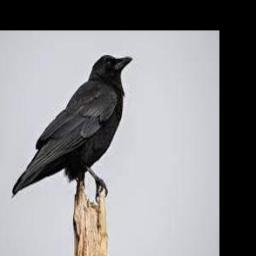Crow: (13, 54, 135, 198)
